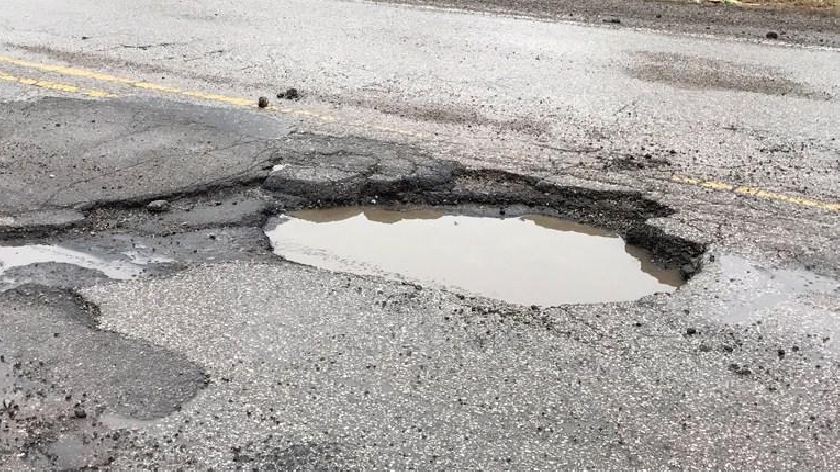pothole: (236, 150, 714, 314), (1, 204, 194, 297)
